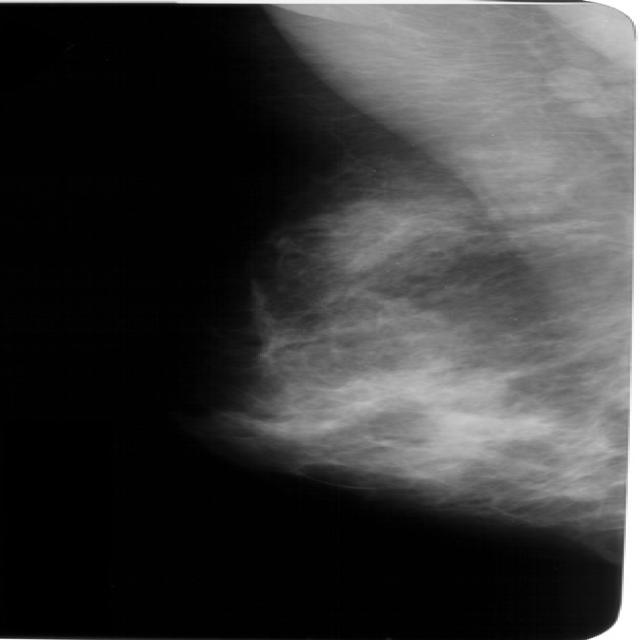tumour: (556, 478, 606, 501)
